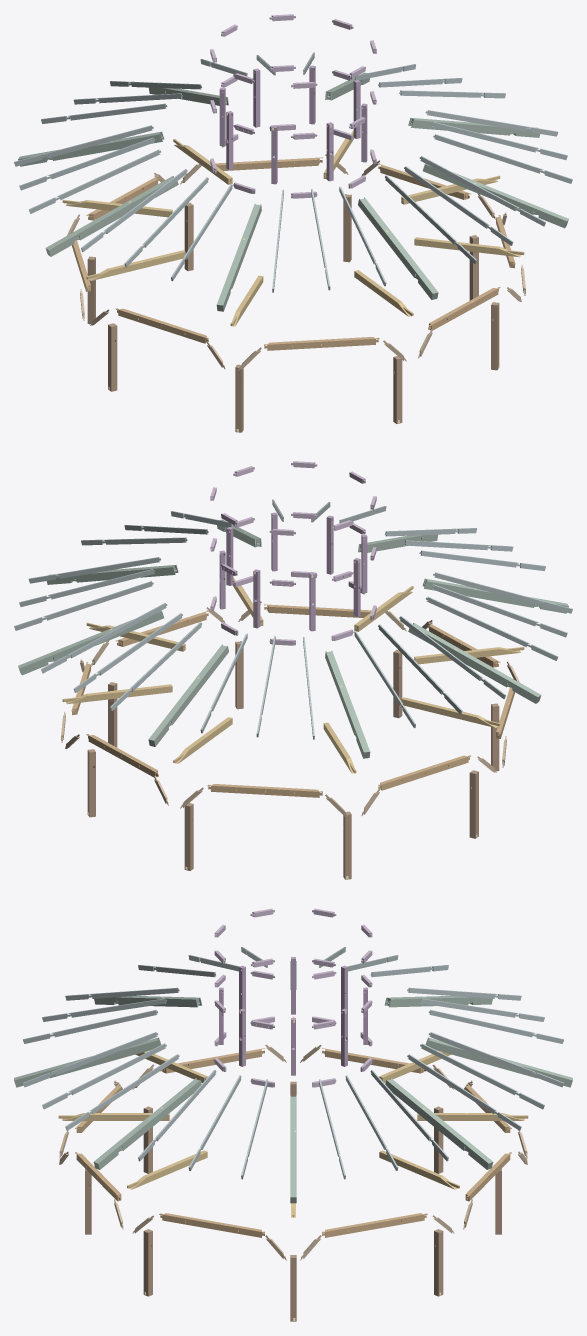
The model's file is Octagon-fitted-exploded.glb.
3 views of the same model, one above another, from view 1: azimuth 30°, elevation 25°; view 2: azimuth 150°, elevation 25°; view 3: azimuth 270°, elevation 25° (orthographic).
Visible parts, largest first — view 1: R4 timber, R6 timber, R7 timber, R3 timber, R5 timber, R0 timber, B5 timber, T7 timber, J7-0 timber, T4 timber, B4 timber, J3-0 timber (+28 smaller); view 2: R4 timber, R2 timber, R1 timber, R5 timber, R3 timber, R0 timber, B2 timber, T1 timber, J0-2 timber, T4 timber, B3 timber, J4-2 timber (+28 smaller); view 3: R1 timber, R7 timber, R2 timber, R6 timber, B0 timber, B7 timber, R3 timber, R5 timber, J1-2 timber, J6-0 timber, J2-0 timber, J5-2 timber (+21 smaller).
Part boxes in pixels (x1,y1,x2,y2): R4 timber: (45, 176, 178, 256); R6 timber: (358, 197, 438, 299); R7 timber: (422, 164, 568, 228); R3 timber: (18, 131, 164, 166); R5 timber: (216, 203, 261, 311); R0 timber: (408, 117, 540, 137); B5 timber: (264, 337, 379, 350); T7 timber: (414, 237, 524, 257); J7-0 timber: (433, 134, 572, 183); T4 timber: (86, 250, 185, 280); B4 timber: (116, 308, 208, 343); J3-0 timber: (14, 125, 153, 166); R4 timber: (408, 623, 541, 703); R2 timber: (148, 644, 228, 746); R1 timber: (18, 611, 164, 675); R5 timber: (422, 578, 568, 613); R3 timber: (325, 650, 370, 758); R0 timber: (46, 564, 178, 584); B2 timber: (207, 784, 322, 797); T1 timber: (62, 684, 172, 704); J0-2 timber: (14, 581, 153, 630); T4 timber: (401, 697, 500, 727); B3 timber: (378, 755, 470, 790); J4-2 timber: (433, 572, 572, 613); R1 timber: (385, 1078, 493, 1169); R7 timber: (93, 1078, 201, 1169); R2 timber: (425, 1037, 572, 1087); R6 timber: (14, 1037, 161, 1087); B0 timber: (322, 1213, 427, 1237); B7 timber: (159, 1213, 264, 1237); R3 timber: (384, 996, 492, 1007); R5 timber: (94, 996, 202, 1007); J1-2 timber: (428, 1032, 563, 1087); J6-0 timber: (23, 1032, 158, 1087); J2-0 timber: (428, 1009, 563, 1043); J5-2 timber: (23, 1009, 158, 1043).
Size of the model in its own units: 17.36 by 9.99 by 17.36.
Materials: 9 (1 with a texture image).
